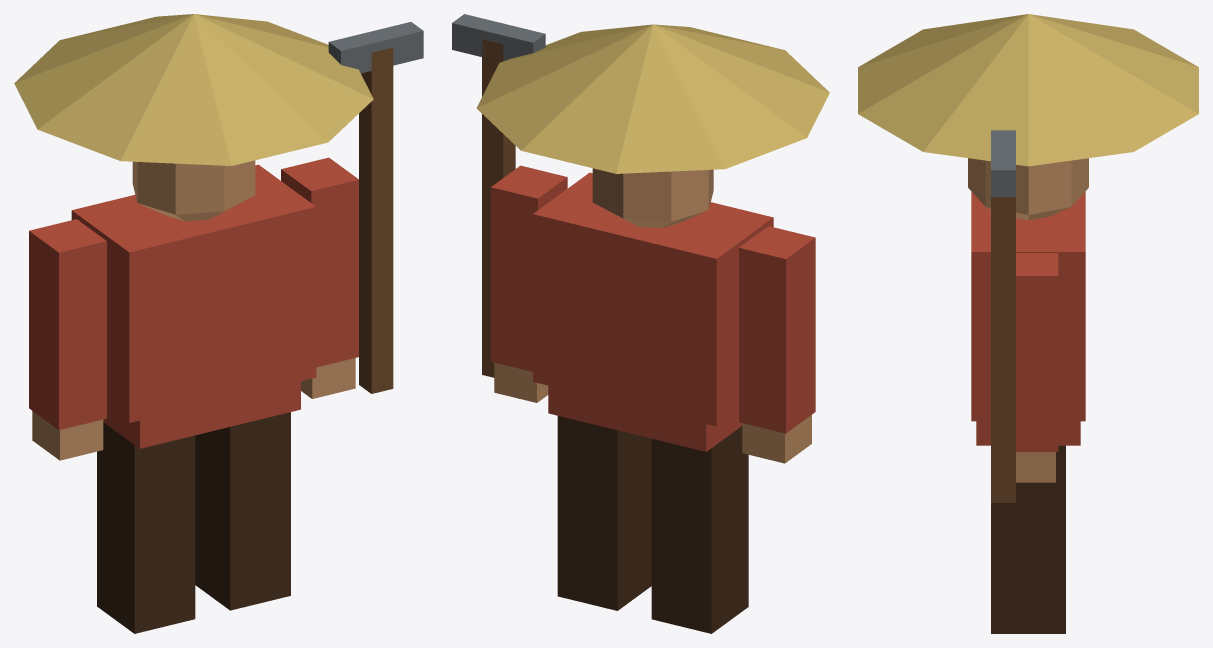
The model's file is npc_petani_caping.obj.
The picture shows the model from 3 angles, left to right: view 1: azimuth 30°, elevation 25°; view 2: azimuth 150°, elevation 25°; view 3: azimuth 270°, elevation 25°; orthographic projection.
Visible parts, largest first — view 1: torso, caping, leg_l, leg_r, arm_l, hoe_handle, arm_r, head, waist, hoe_blade, hand_l, hand_r; view 2: torso, caping, leg_l, leg_r, arm_l, arm_r, head, waist, hoe_handle, hoe_blade, hand_l, hand_r; view 3: caping, torso, leg_r, arm_r, hoe_handle, head, hoe_blade, hand_r, waist.
Part boxes in pixels (x1,y1,x2,y2): torso: (71, 164, 316, 422); caping: (14, 14, 373, 165); leg_l: (97, 422, 195, 633); leg_r: (195, 412, 290, 610); arm_l: (29, 219, 106, 430); hoe_handle: (359, 47, 393, 393); arm_r: (281, 157, 358, 367); head: (132, 160, 255, 221); waist: (103, 381, 300, 448); hoe_blade: (328, 22, 423, 73); hand_l: (32, 411, 103, 460); hand_r: (301, 358, 355, 398); torso: (533, 172, 773, 426); caping: (476, 24, 829, 173); leg_l: (651, 426, 748, 633); leg_r: (557, 416, 651, 610); arm_l: (739, 226, 815, 433); arm_r: (491, 165, 567, 371); head: (592, 168, 713, 228); waist: (548, 385, 742, 451); hoe_handle: (482, 39, 515, 377); hoe_blade: (452, 14, 545, 61); hand_l: (742, 415, 811, 463); hand_r: (494, 362, 548, 402); caping: (858, 14, 1198, 166); torso: (971, 191, 1085, 421); leg_r: (991, 445, 1065, 633); arm_r: (1016, 253, 1058, 451); hoe_handle: (991, 197, 1015, 502); head: (968, 158, 1088, 220); hoe_blade: (991, 130, 1015, 197); hand_r: (1016, 452, 1055, 482); waist: (976, 421, 1080, 445).
Size of the model in its own units: 1.69 by 2.58 by 1.37.
